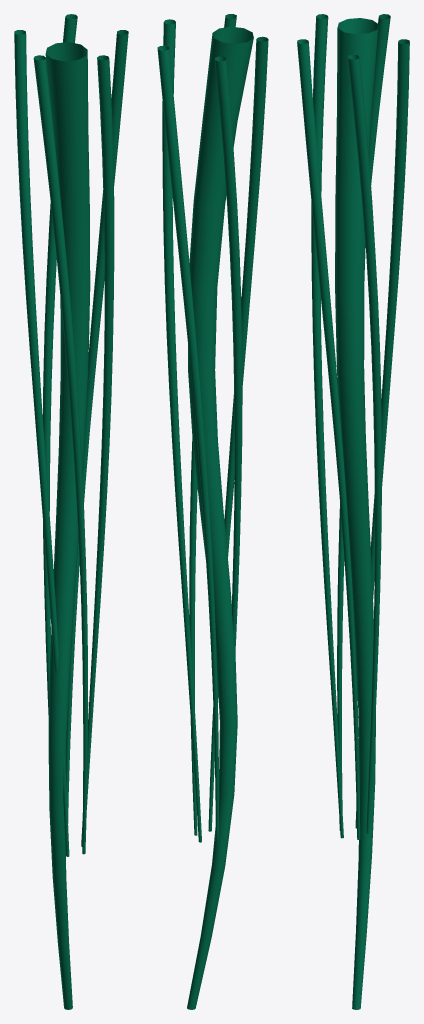
The model's file is normalVine_03.fbx.
The picture shows the model from 3 angles, left to right: view 1: azimuth 90°, elevation 25°; view 2: azimuth 210°, elevation 25°; view 3: azimuth 270°, elevation 25°; orthographic projection.
Parts seen in each view (by area): view 1: normalVine_03; view 2: normalVine_03; view 3: normalVine_03.
Boxes of the visible parts, box(x1,y1,x2,y2) form: normalVine_03: box(14, 14, 128, 1009); normalVine_03: box(157, 14, 268, 1009); normalVine_03: box(297, 14, 409, 1009).
Size of the model in its own units: 1.41 by 13.77 by 1.46.
